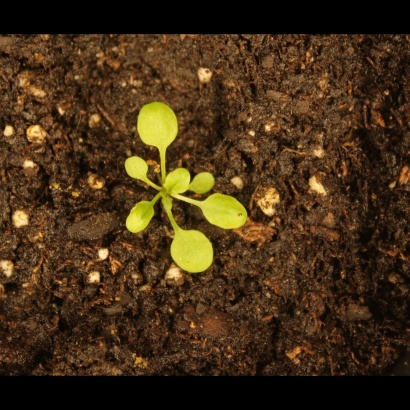leaf: (165, 227, 219, 282), (135, 99, 186, 153), (197, 190, 252, 231), (116, 195, 159, 237), (155, 165, 193, 196), (118, 154, 152, 183), (187, 170, 223, 195)
